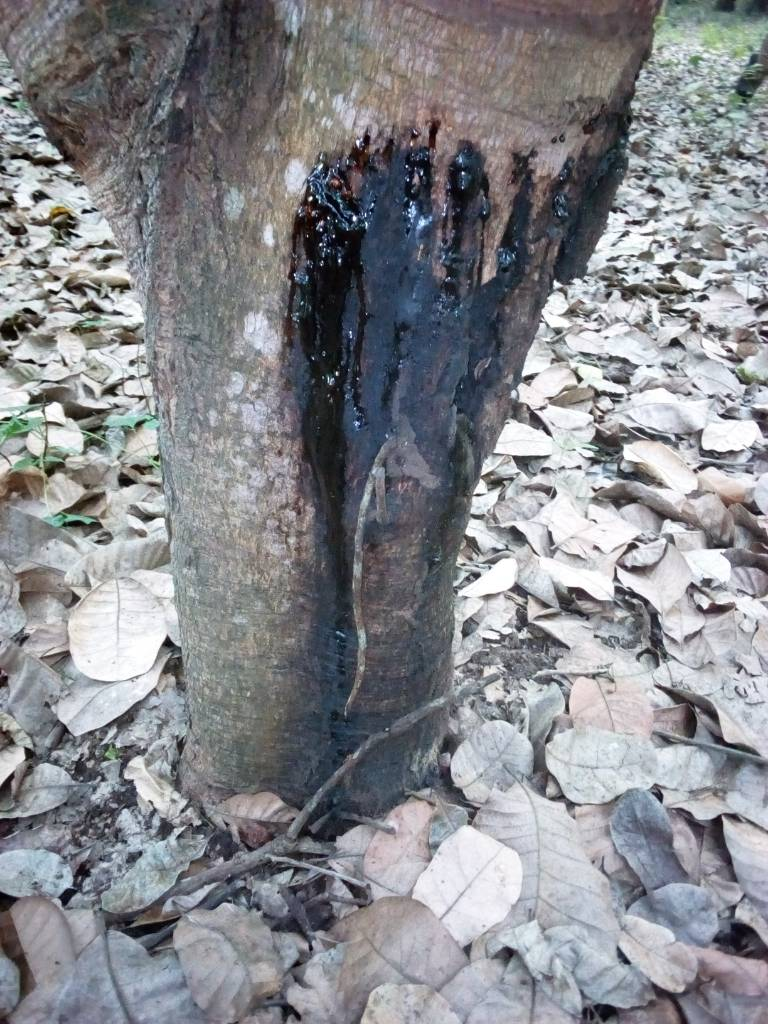Mecocorynus longiceps: (266, 157, 383, 623), (546, 128, 648, 337), (418, 136, 525, 308)
